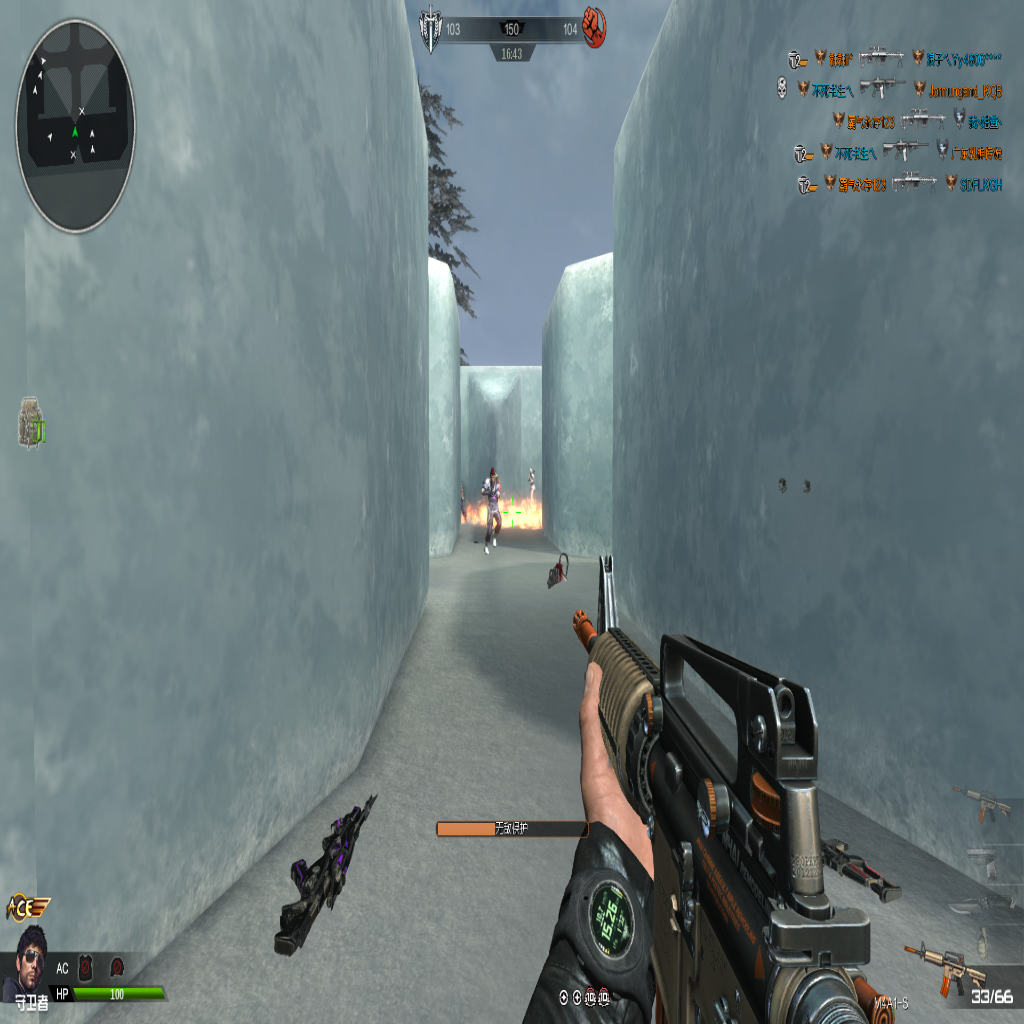tt: (484, 466, 501, 548), (528, 466, 535, 494)
